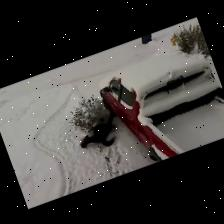person: (81, 114, 115, 148)
